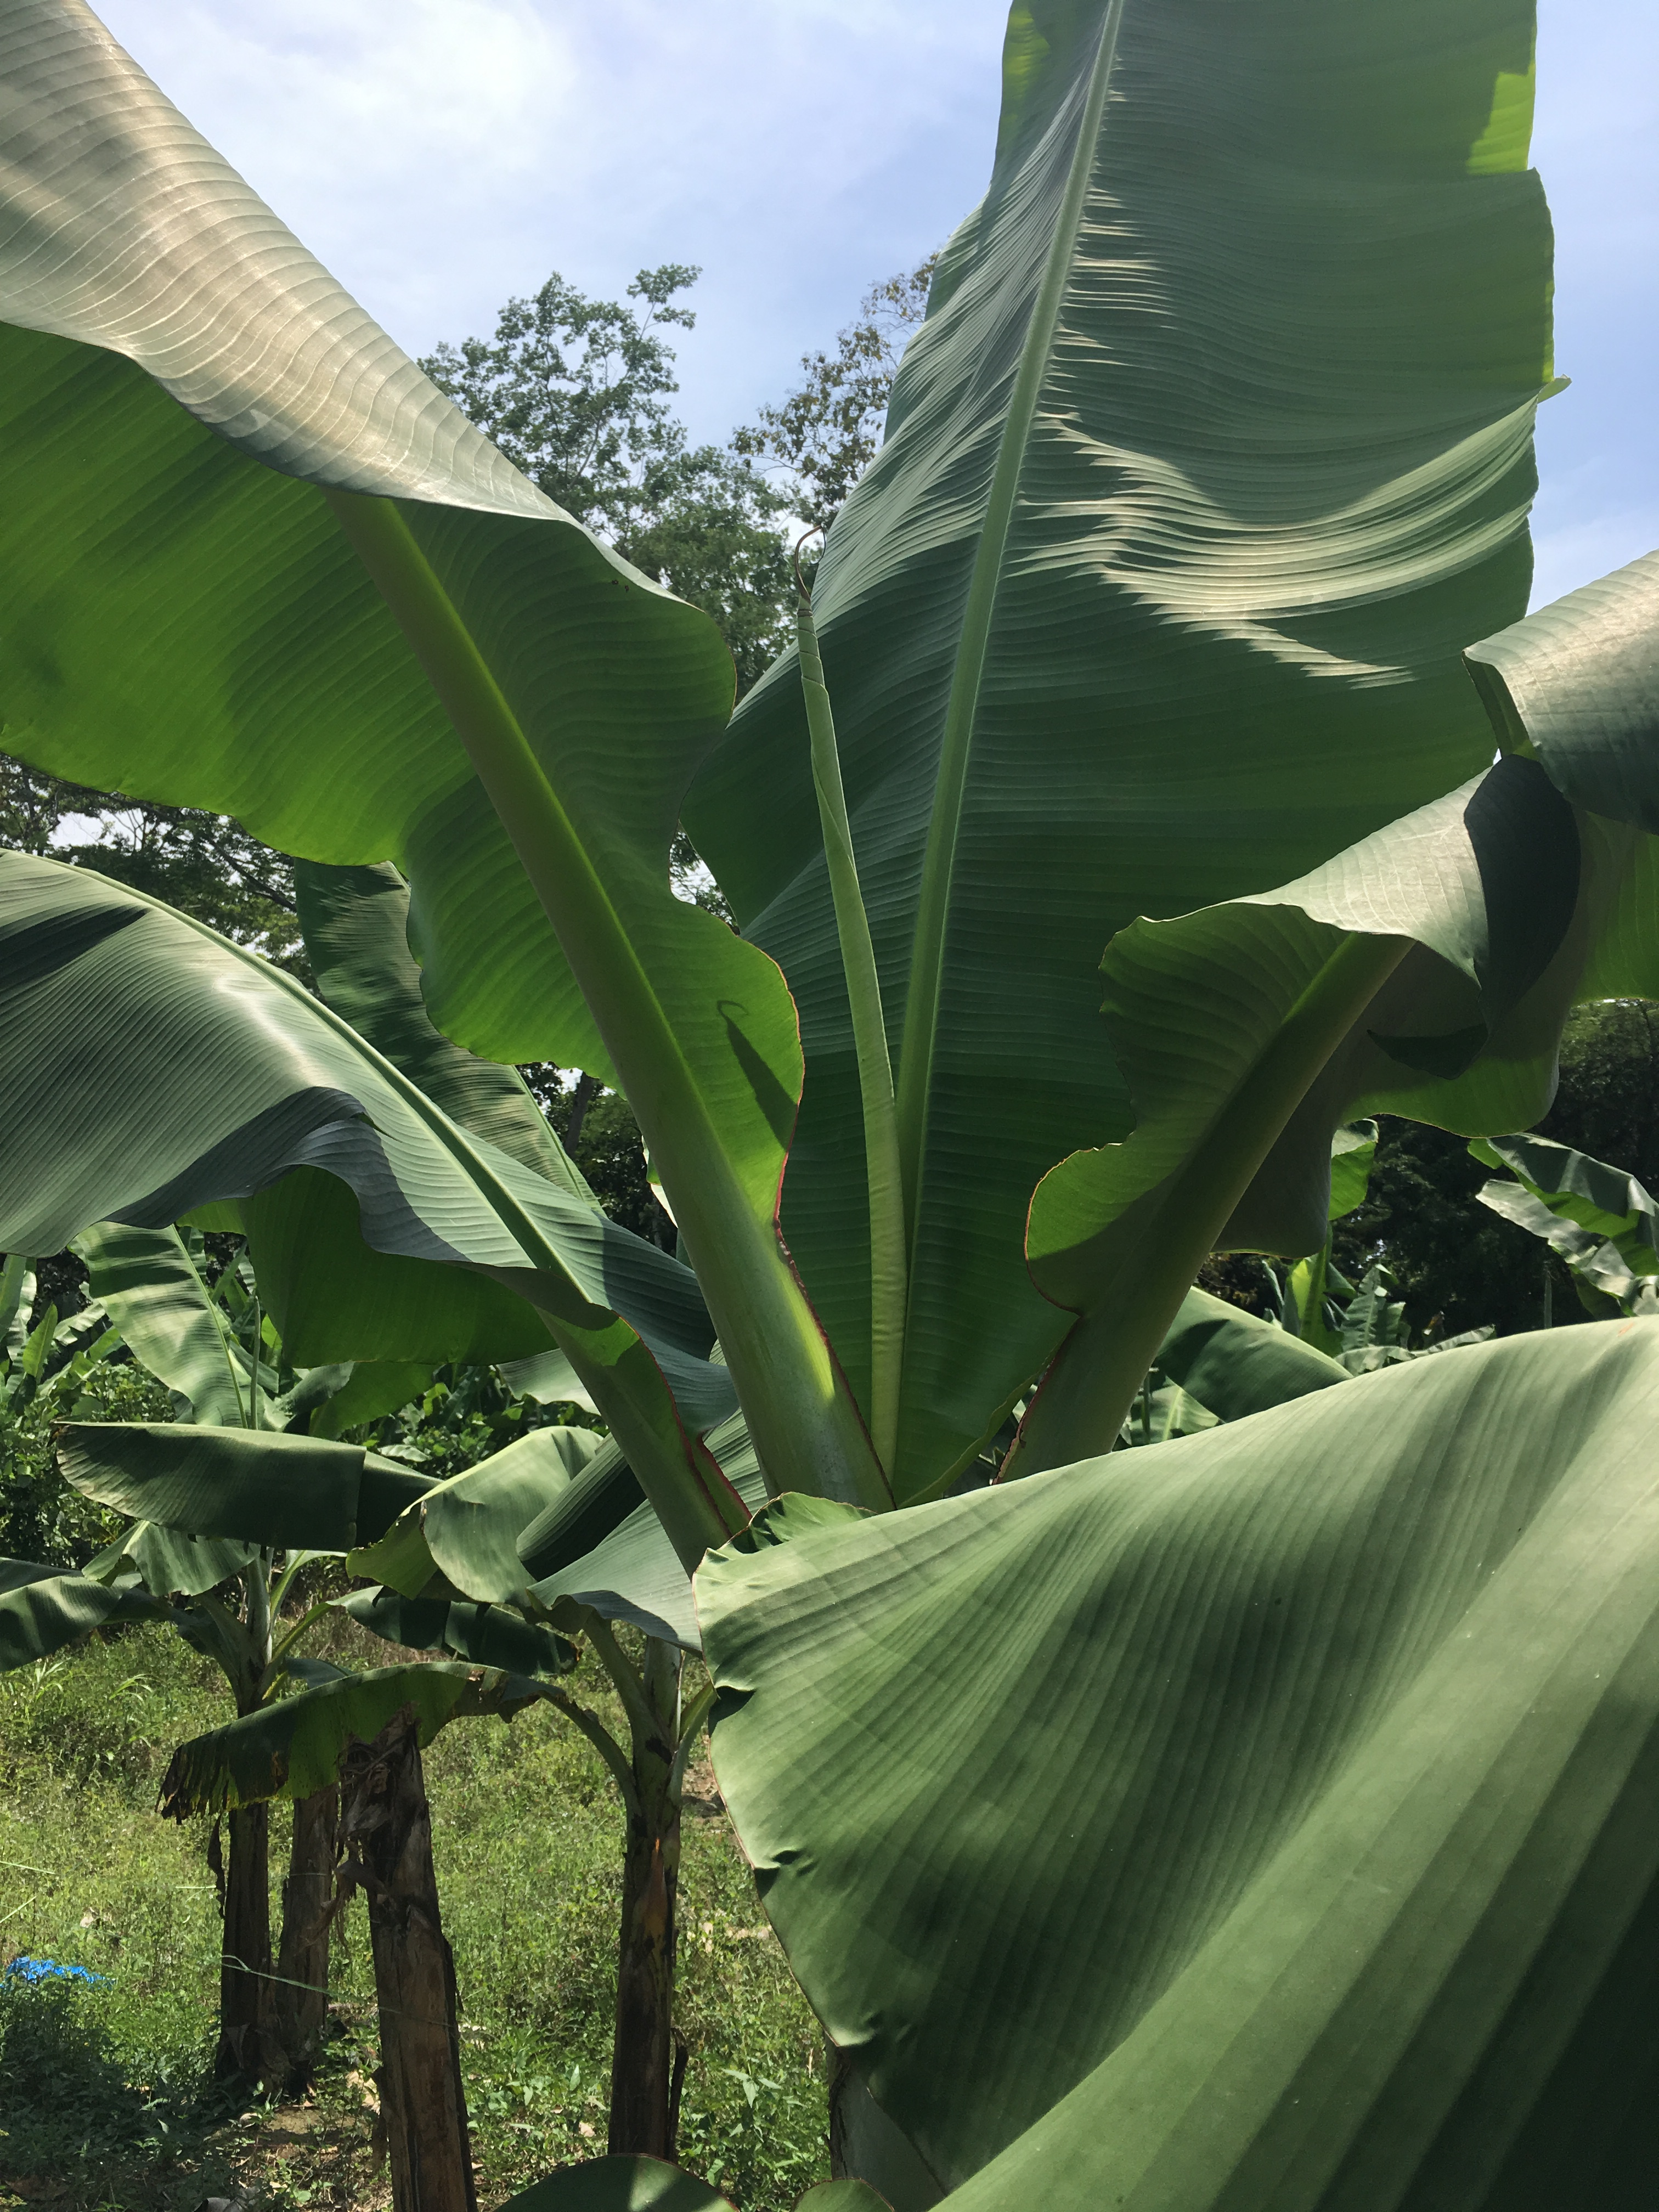candleleafs: (789, 526, 908, 1458)
